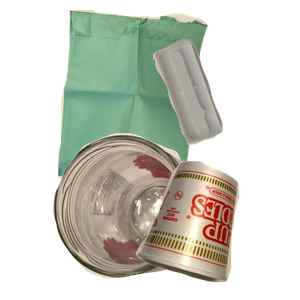glass: (50, 131, 252, 300)
paper: (55, 10, 255, 190)
plastic: (150, 36, 300, 173)
trash: (133, 158, 300, 300)
